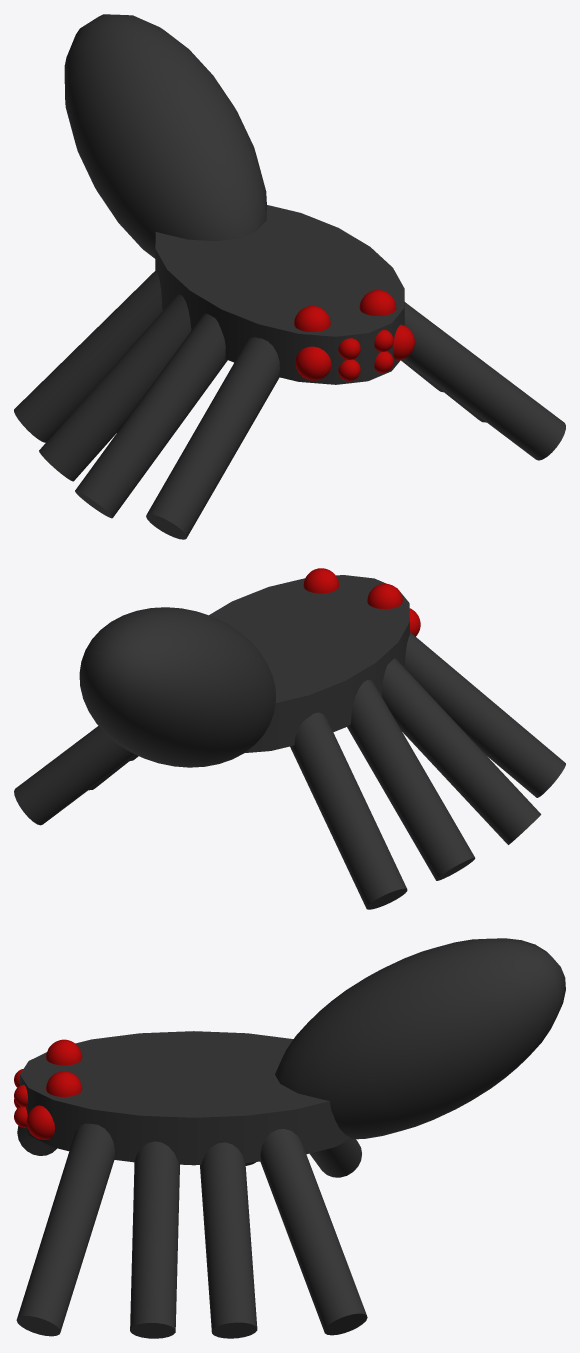
Rendered from Spider.fbx.
3 renders of one model, top to bottom at view 1: azimuth 30°, elevation 25°; view 2: azimuth 150°, elevation 25°; view 3: azimuth 270°, elevation 25°, orthographic. The views are drawn at different scales.
Visible parts, largest first — view 1: pCylinder10; view 2: pCylinder10; view 3: pCylinder10.
Part boxes in pixels (x1,y1,x2,y2): pCylinder10: (14,14,565,539); pCylinder10: (14,568,565,909); pCylinder10: (14,938,565,1338).
Size of the model in its own units: 3.58 by 2.48 by 3.98.
